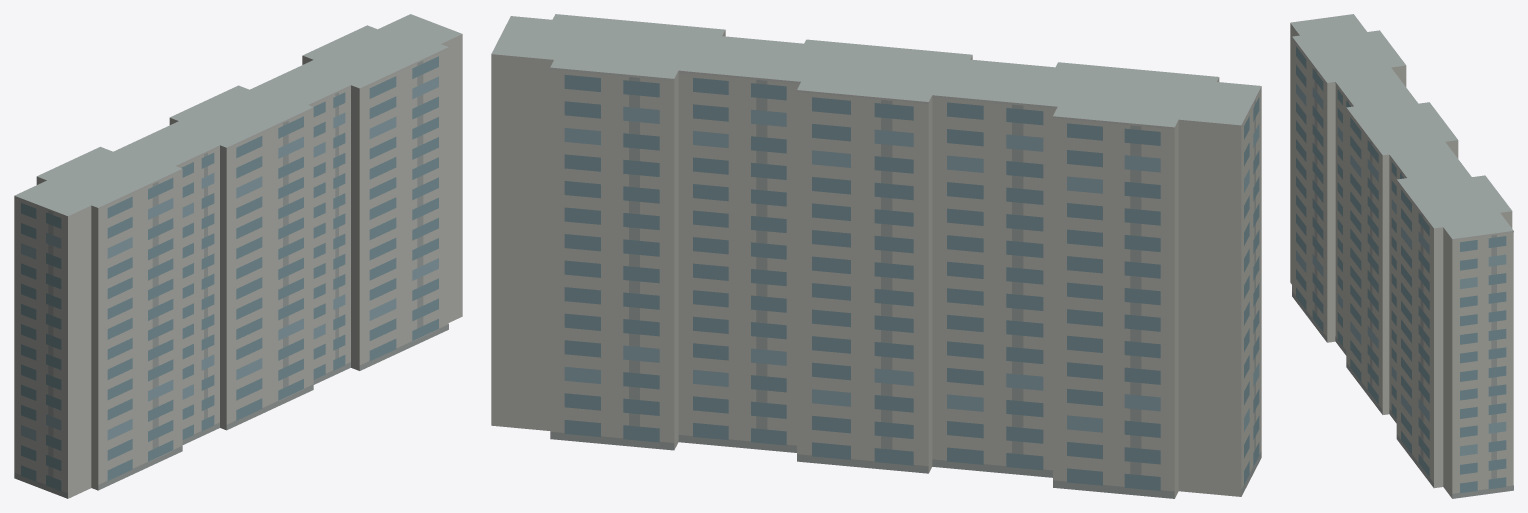
The model's file is residential-d8bbb322-a9c5-409b-99b8-0f886754796a.glb.
3 views of the same model, side by side, from view 1: azimuth 30°, elevation 25°; view 2: azimuth 150°, elevation 25°; view 3: azimuth 270°, elevation 25° (orthographic). The views are drawn at different scales.
Visible parts, largest first — view 1: residential-d8bbb322-a9c5-409b-99b8-0f886754796a.tmp; view 2: residential-d8bbb322-a9c5-409b-99b8-0f886754796a.tmp; view 3: residential-d8bbb322-a9c5-409b-99b8-0f886754796a.tmp.
Part boxes in pixels (bbox=[...]): residential-d8bbb322-a9c5-409b-99b8-0f886754796a.tmp: bbox=[14, 14, 462, 498]; residential-d8bbb322-a9c5-409b-99b8-0f886754796a.tmp: bbox=[491, 14, 1261, 498]; residential-d8bbb322-a9c5-409b-99b8-0f886754796a.tmp: bbox=[1290, 14, 1513, 498].
Size of the model in its own units: 79.38 by 42.7 by 33.32.
